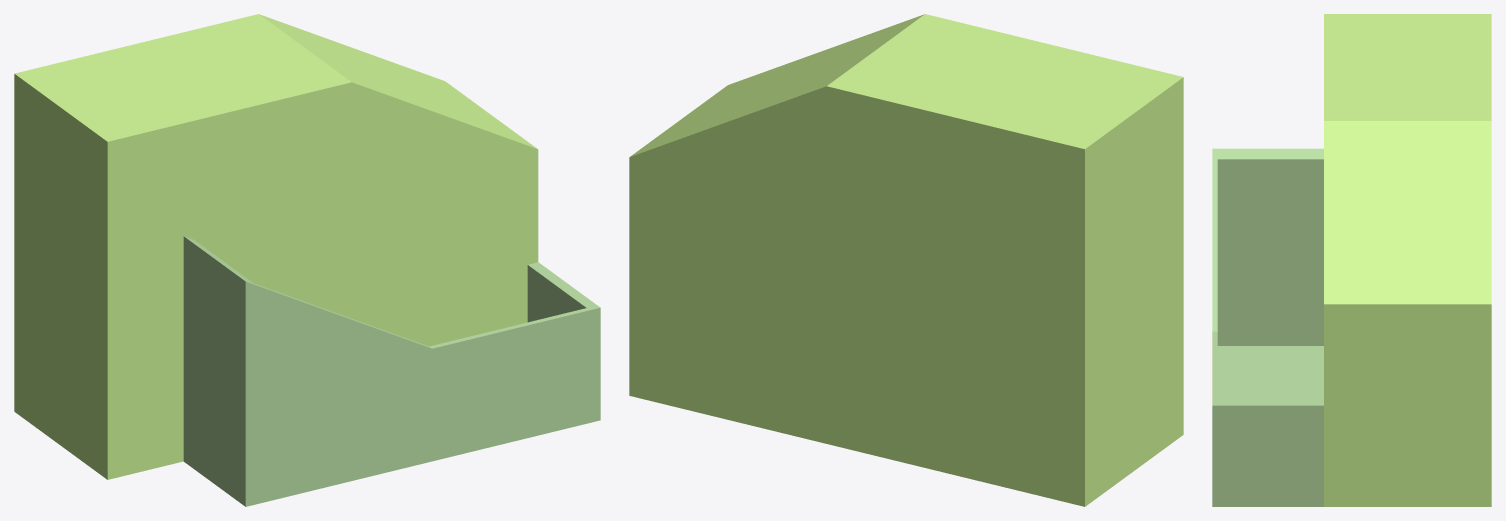
The picture shows the model from 3 angles, left to right: view 1: azimuth 30°, elevation 25°; view 2: azimuth 150°, elevation 25°; view 3: azimuth 270°, elevation 25°; orthographic projection. The views are drawn at different scales.
Parts seen in each view (by area): view 1: Mesh_0.002; view 2: Mesh_0.002; view 3: Mesh_0.002.
Part boxes in pixels (x1,y1,x2,y2): Mesh_0.002: (14,14,600,506); Mesh_0.002: (629,14,1183,506); Mesh_0.002: (1212,14,1491,506).
Bounding box in the file's own units: 4 × 3 × 2.5.
